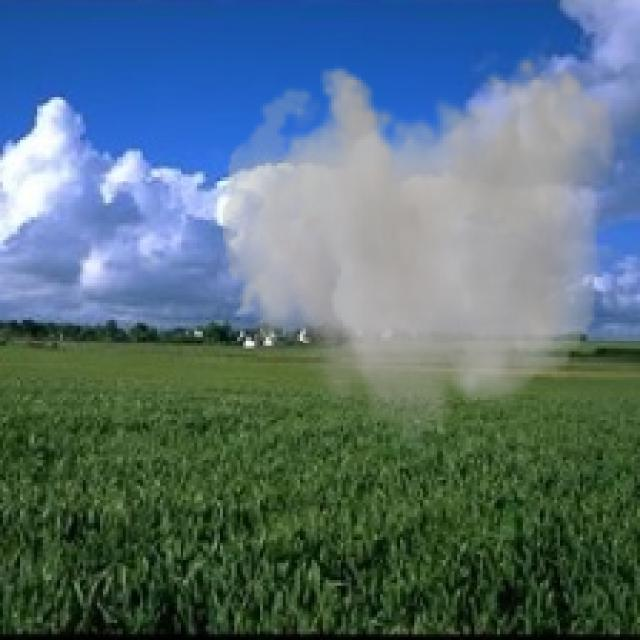Smoke: (222, 54, 618, 457)
